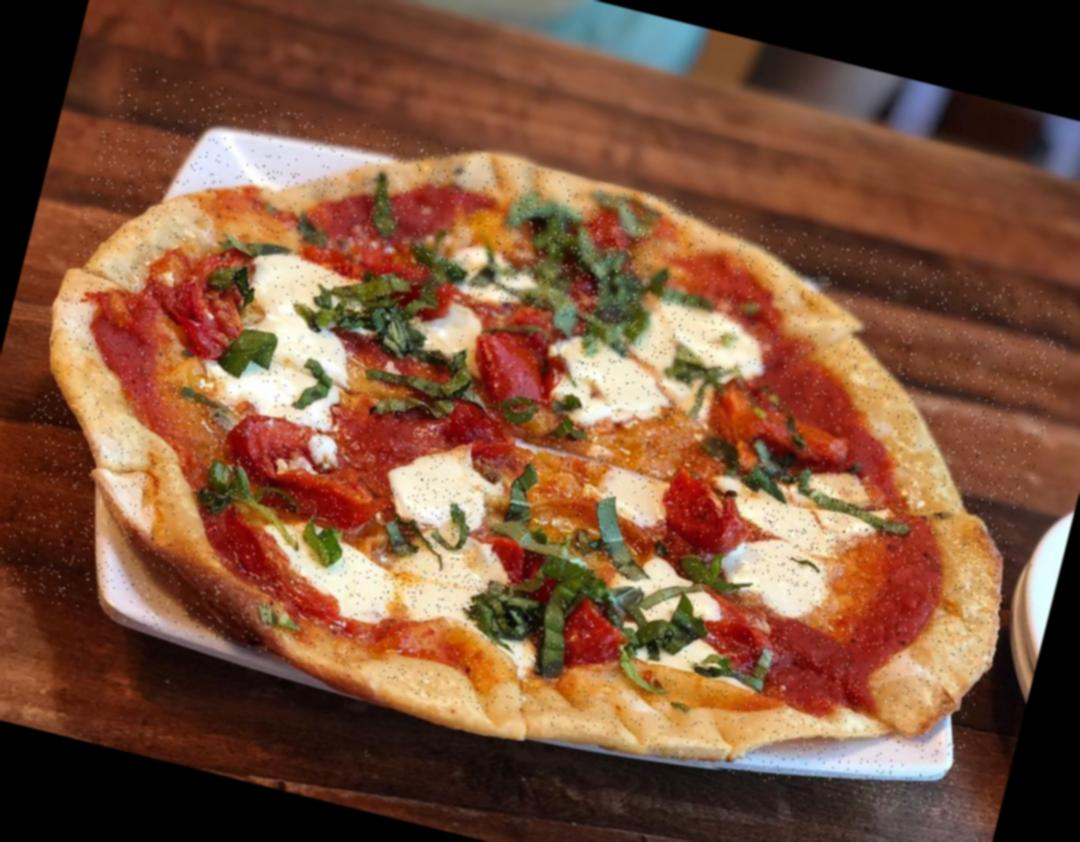Basil: (492, 198, 652, 334), (732, 458, 924, 547), (498, 548, 600, 679), (312, 264, 431, 358), (366, 357, 486, 431), (493, 468, 584, 557), (578, 488, 658, 588), (656, 344, 736, 402), (473, 584, 539, 640), (409, 246, 481, 296), (287, 350, 339, 410), (358, 180, 406, 244), (224, 328, 279, 379), (560, 315, 624, 358), (675, 552, 736, 592), (208, 254, 258, 300)
Cheese: (226, 258, 361, 427), (562, 292, 724, 428), (380, 472, 509, 623), (743, 471, 855, 596), (280, 527, 398, 626), (621, 574, 711, 664), (420, 300, 485, 362)
Pizza: (0, 62, 1079, 827)
Tomatoes: (215, 406, 392, 532), (705, 390, 854, 485), (170, 235, 261, 365), (464, 322, 567, 418), (654, 470, 758, 562), (694, 611, 780, 681), (560, 599, 626, 672), (483, 533, 548, 592)
